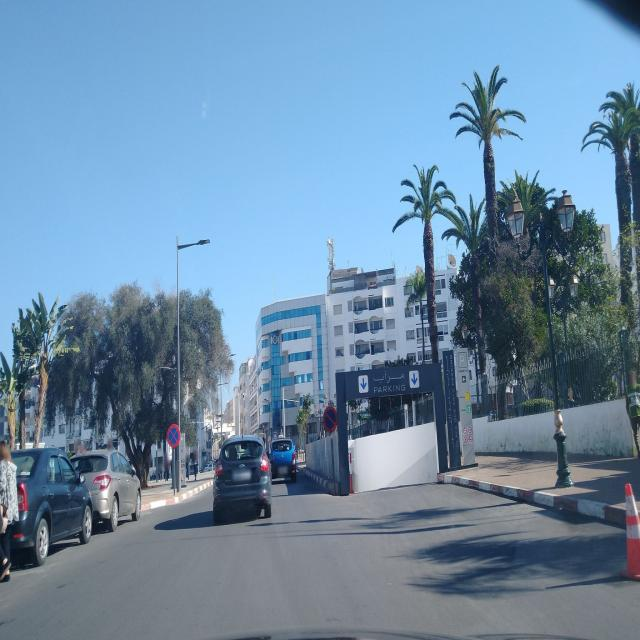forb_stopping: (322, 404, 338, 434)
forb_waiting: (168, 426, 179, 446)
